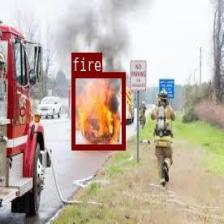fire: (71, 72, 124, 148)
